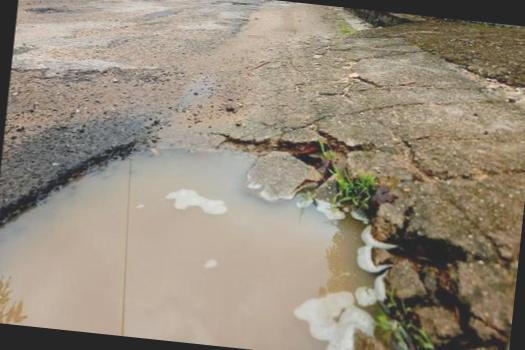Stagnant water: (0, 19, 449, 350)
